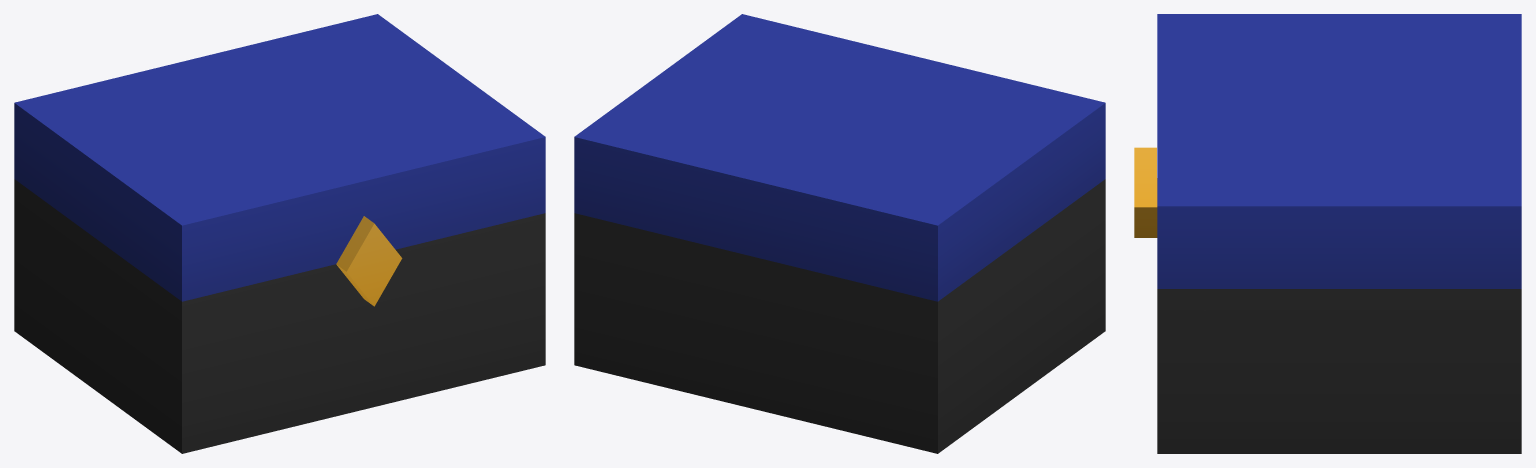
File: Chest.fbx
The picture shows the model from 3 angles, left to right: view 1: azimuth 30°, elevation 25°; view 2: azimuth 150°, elevation 25°; view 3: azimuth 270°, elevation 25°; orthographic projection. The views are drawn at different scales.
Visible parts, largest first — view 1: Chest Top, Chest Bottom; view 2: Chest Top, Chest Bottom; view 3: Chest Top, Chest Bottom.
Part boxes in pixels (box(x1,y1,x2,y2)): Chest Top: box(14, 14, 545, 301); Chest Bottom: box(14, 179, 545, 453); Chest Top: box(574, 14, 1105, 301); Chest Bottom: box(574, 179, 1105, 453); Chest Top: box(1134, 14, 1521, 288); Chest Bottom: box(1134, 178, 1521, 453).
Size of the model in its own units: 1 by 0.6 by 0.85.
